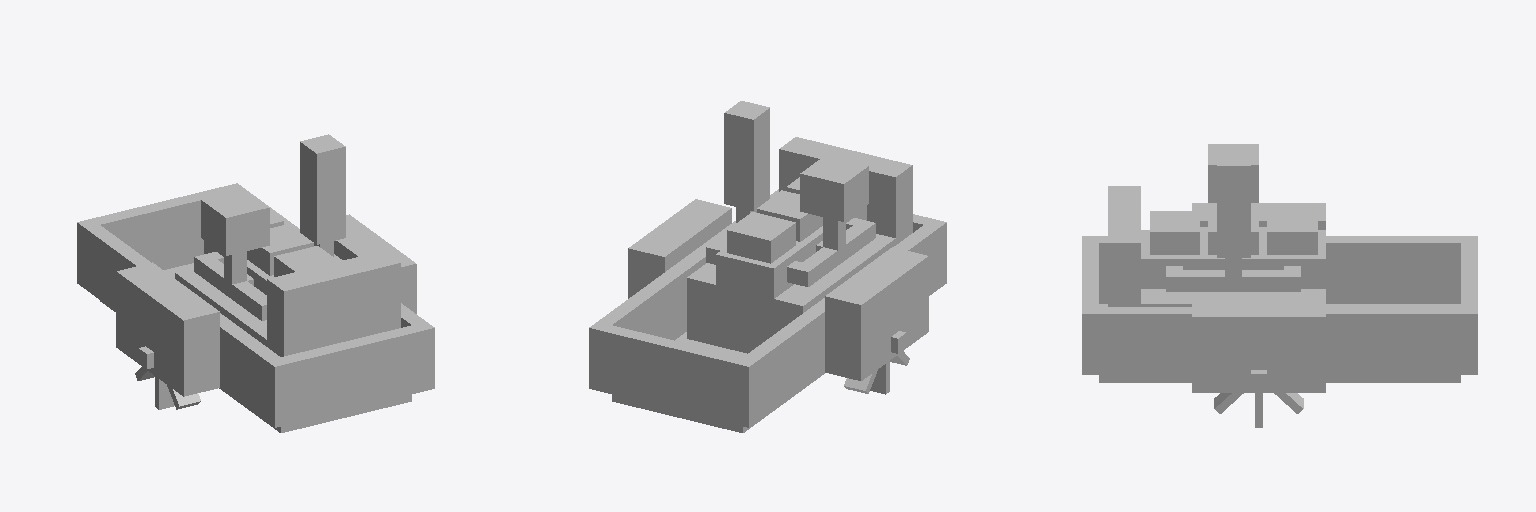
File: diesel_boat.obj
3 views of the same model, side by side, from view 1: azimuth 30°, elevation 25°; view 2: azimuth 150°, elevation 25°; view 3: azimuth 270°, elevation 25° (orthographic).
Visible parts, largest first — view 1: Cube_Cube.002, Cube.003_Cube.005; view 2: Cube_Cube.002, Cube.003_Cube.005; view 3: Cube_Cube.002, Cube.003_Cube.005.
Boxes of the visible parts, x1,y1,x2,y2 form: Cube_Cube.002: [77, 134, 434, 432]; Cube.003_Cube.005: [135, 346, 200, 409]; Cube_Cube.002: [589, 101, 946, 432]; Cube.003_Cube.005: [844, 331, 909, 394]; Cube_Cube.002: [1082, 144, 1477, 392]; Cube.003_Cube.005: [1214, 370, 1303, 427].
Bounding box in the file's own units: 2.12 × 1.94 × 2.94.